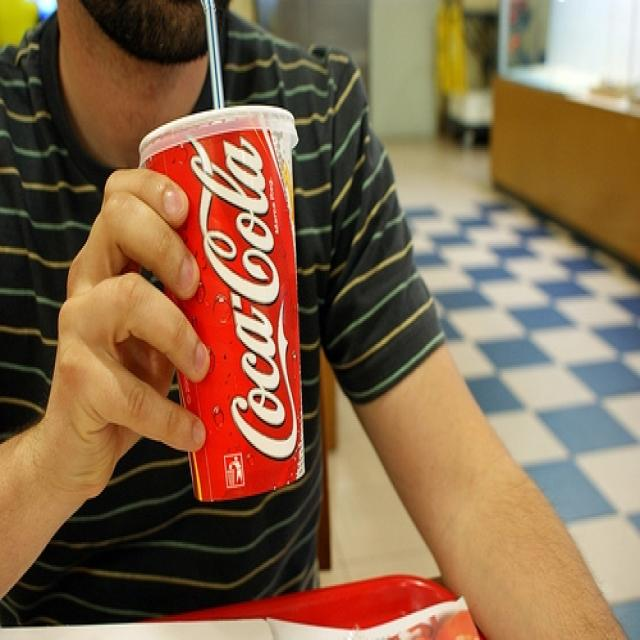cocacola: (175, 124, 308, 485)
